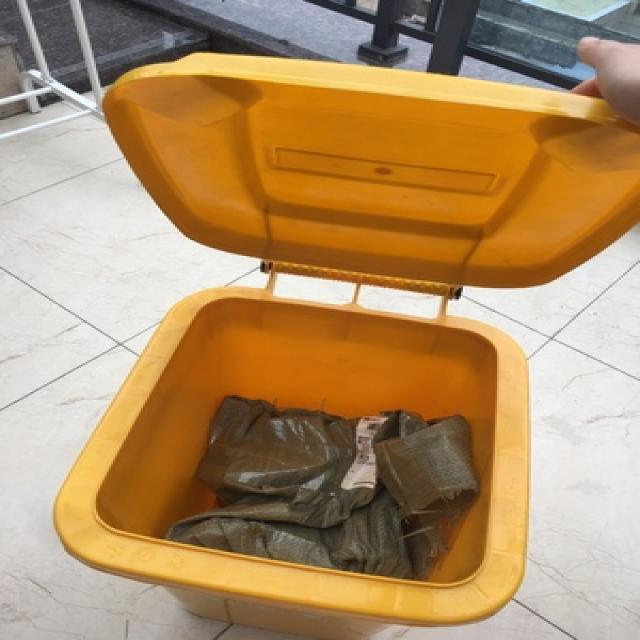ash bin: (43, 50, 638, 622)
